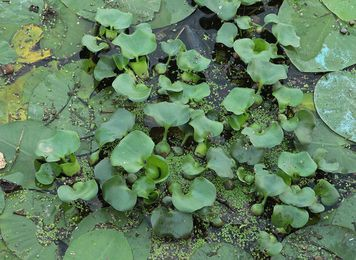water_hyacinth: (40, 8, 341, 236)
